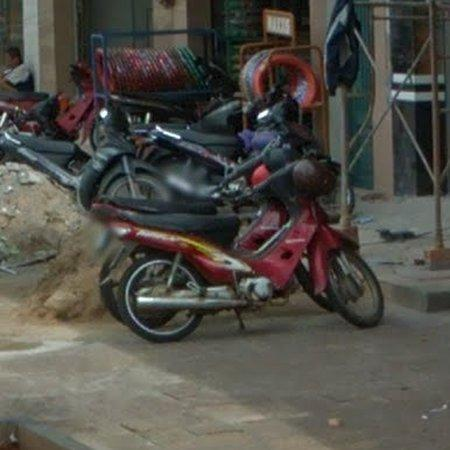motorcycles: (112, 160, 385, 342), (77, 123, 292, 212)
